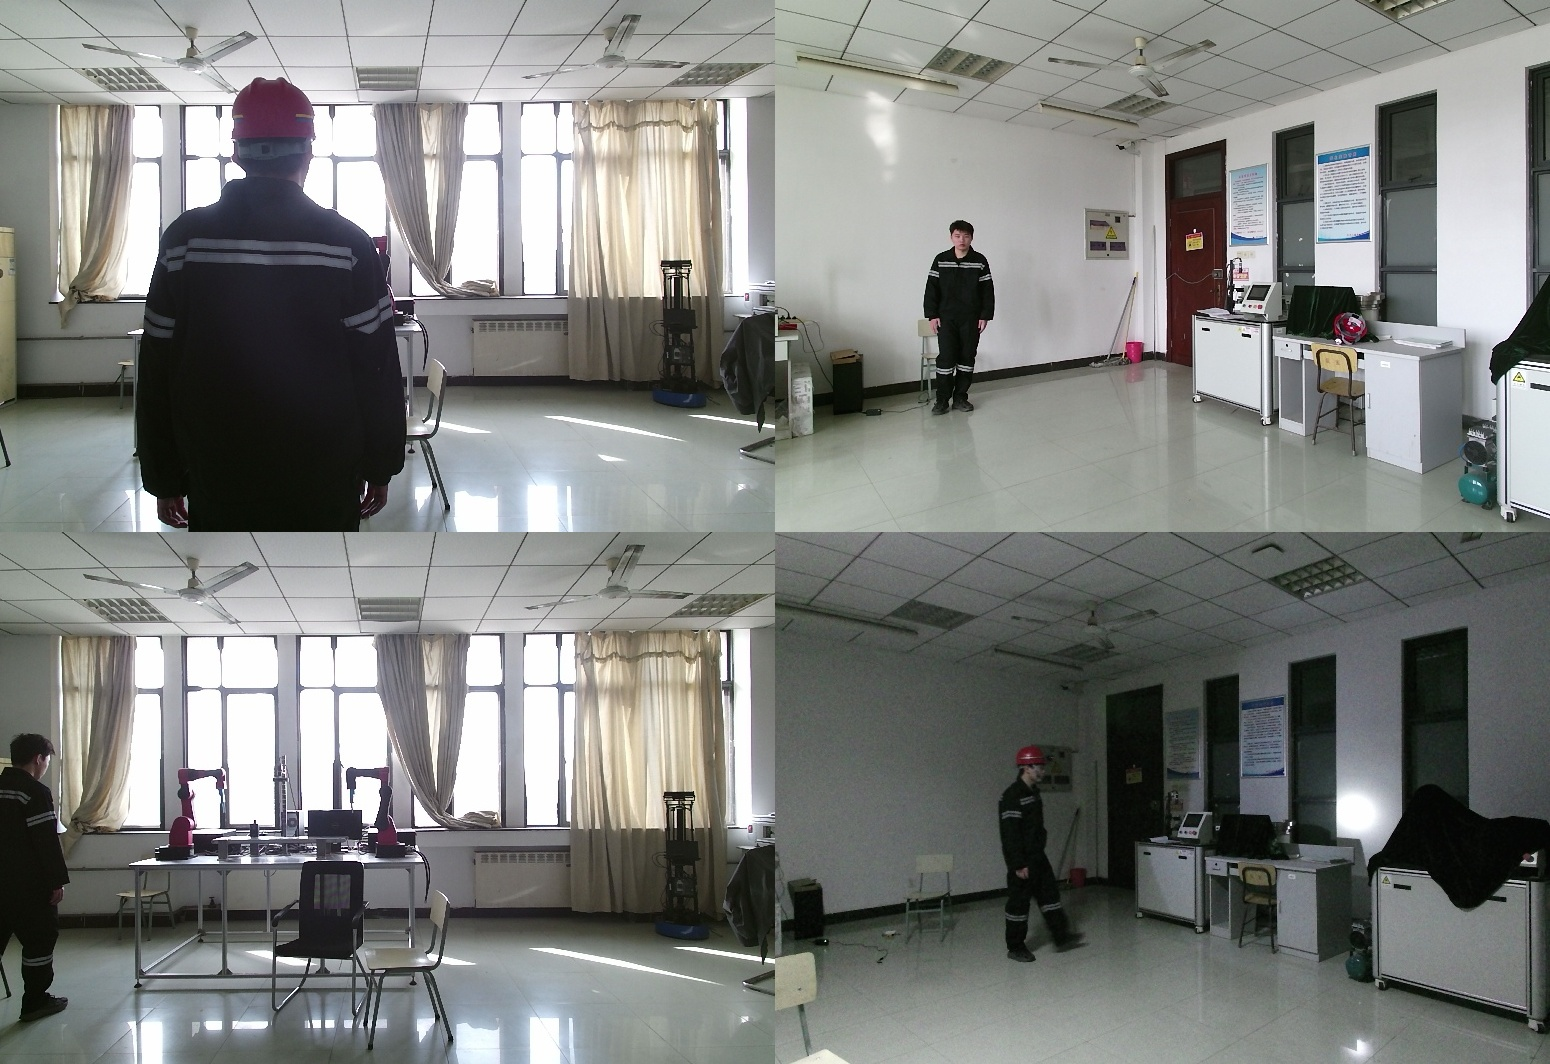person: (136, 79, 409, 532), (2, 734, 75, 1030), (995, 747, 1087, 974), (919, 223, 995, 421)
